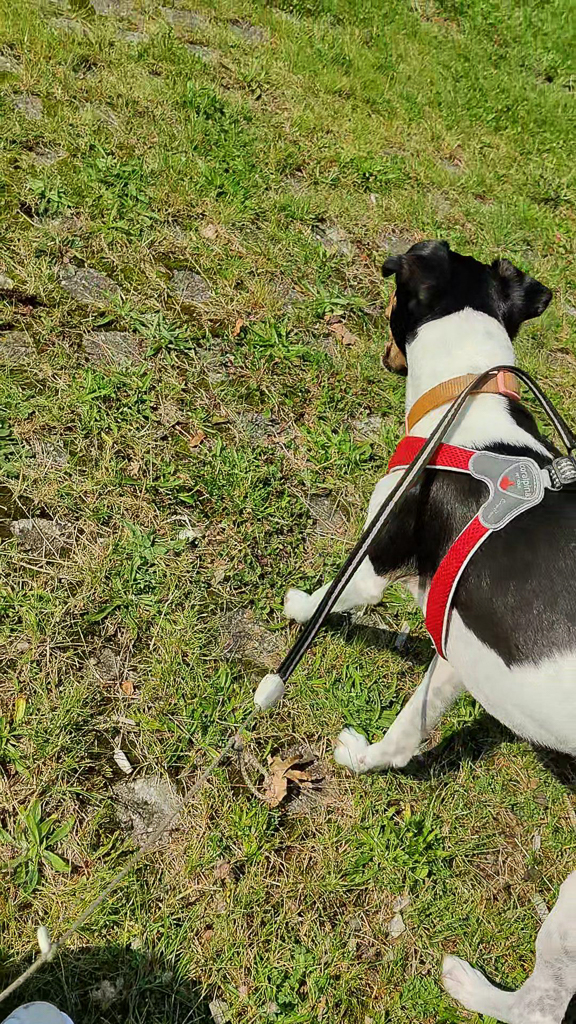Dog: (260, 202, 576, 1024)
